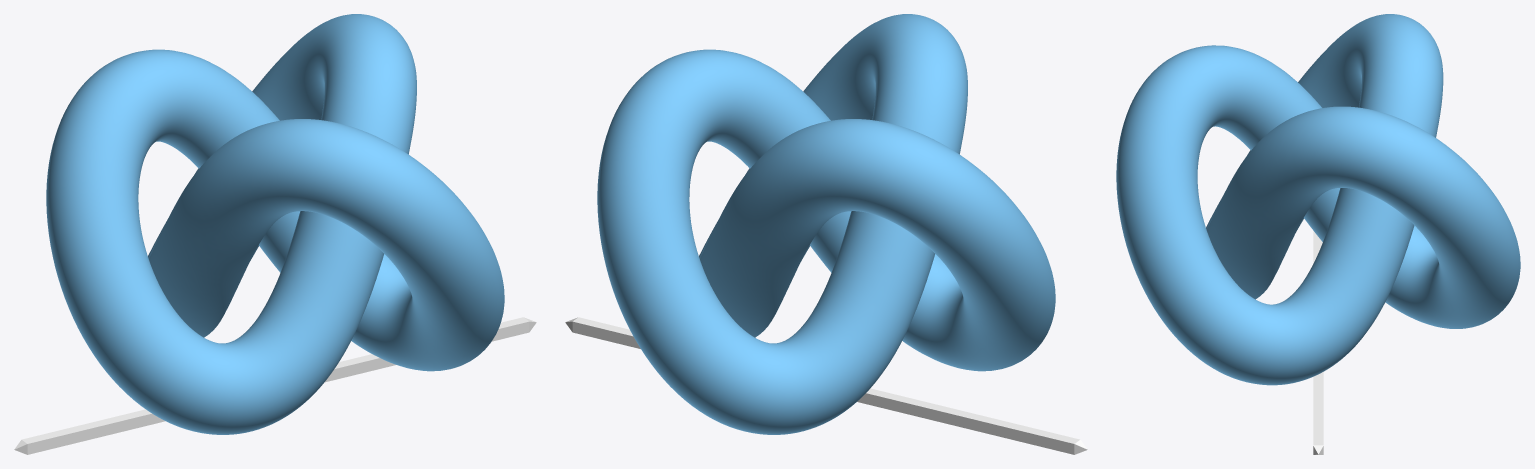
3 views of the same model, side by side, from view 1: azimuth 30°, elevation 25°; view 2: azimuth 150°, elevation 25°; view 3: azimuth 270°, elevation 25° (orthographic). The views are drawn at different scales.
Parts seen in each view (by area): view 1: EQ_04, DEBUG_contiuous_line; view 2: EQ_04, DEBUG_contiuous_line; view 3: EQ_04, DEBUG_contiuous_line.
Boxes of the visible parts, box(x1,y1,x2,y2) form: EQ_04: box(46, 14, 504, 434); DEBUG_contiuous_line: box(14, 317, 536, 454); EQ_04: box(597, 14, 1055, 434); DEBUG_contiuous_line: box(565, 317, 1087, 454); EQ_04: box(1116, 14, 1520, 385); DEBUG_contiuous_line: box(1313, 231, 1323, 454).
Size of the model in its own units: 1 by 0.5892 by 0.7591.
